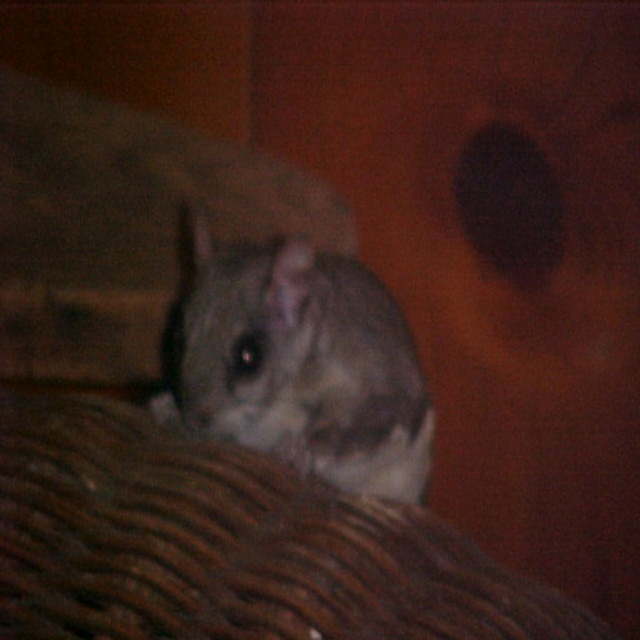Mouse: (144, 210, 432, 504)
